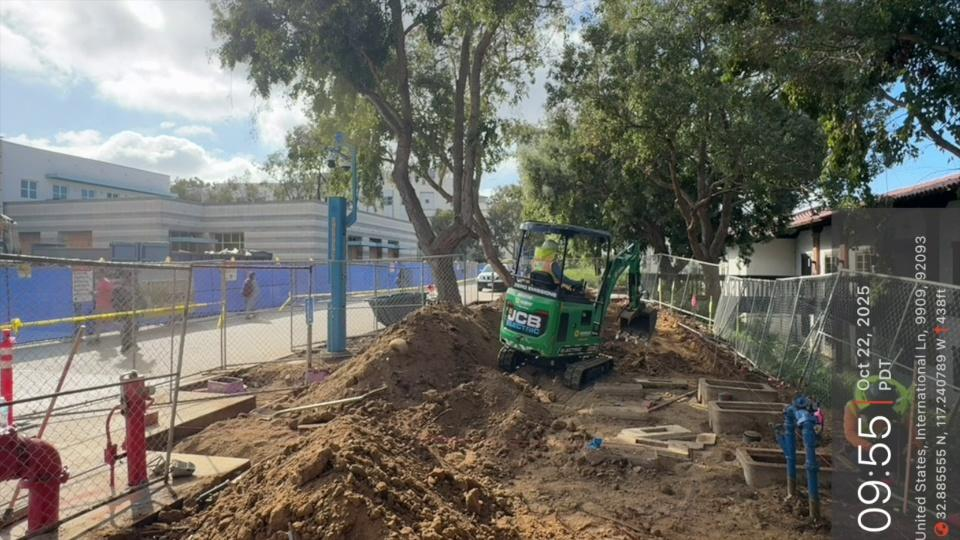Exacavator: (494, 218, 658, 390)
